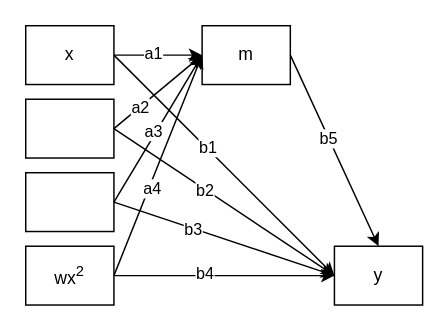
The diagram is 448 pixels wide and 331 high, and some of its shapes have lost their labels. The centre of each missing label's shape, as x and y in pixels:
wx: pixel 69 201
x 2: pixel 69 128
